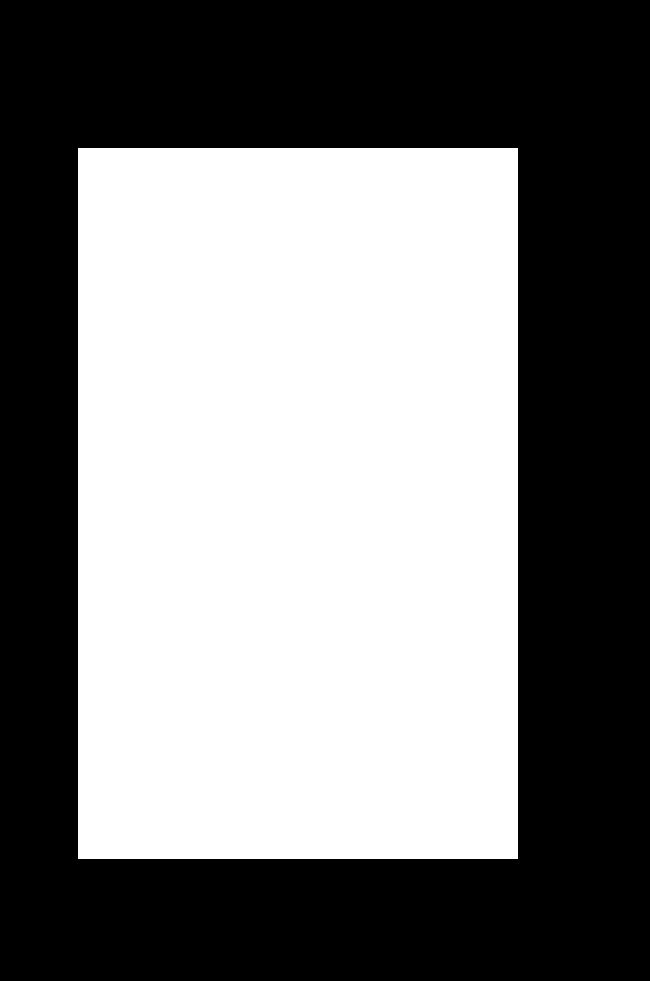table: (78, 148, 517, 858)
